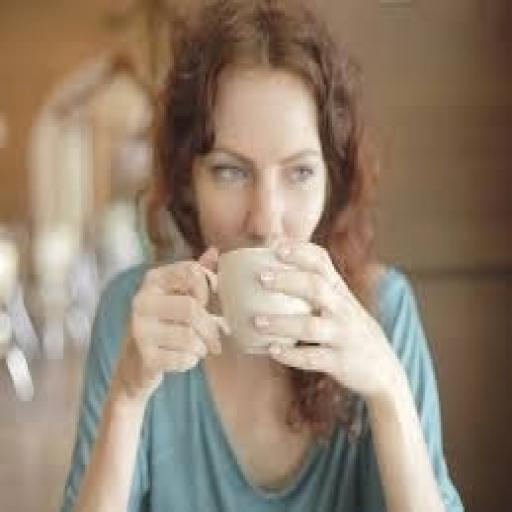drinking: (214, 42, 322, 356)
